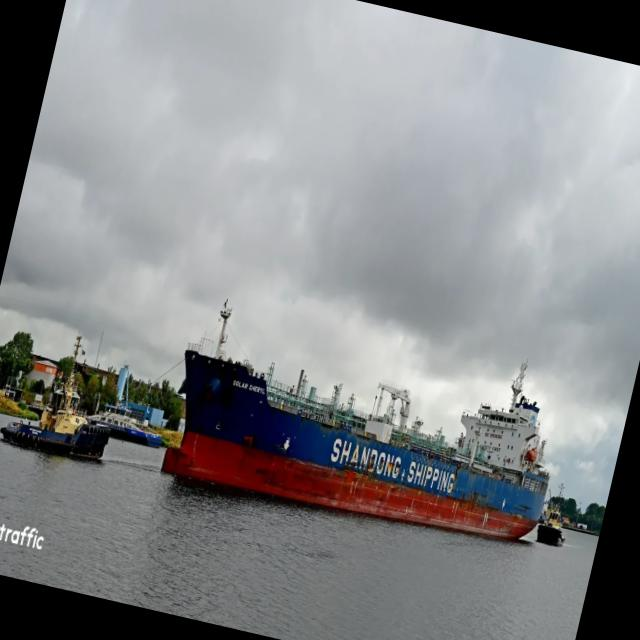Tanker: (161, 300, 548, 539)
Tug: (0, 334, 109, 459), (537, 510, 563, 545)
